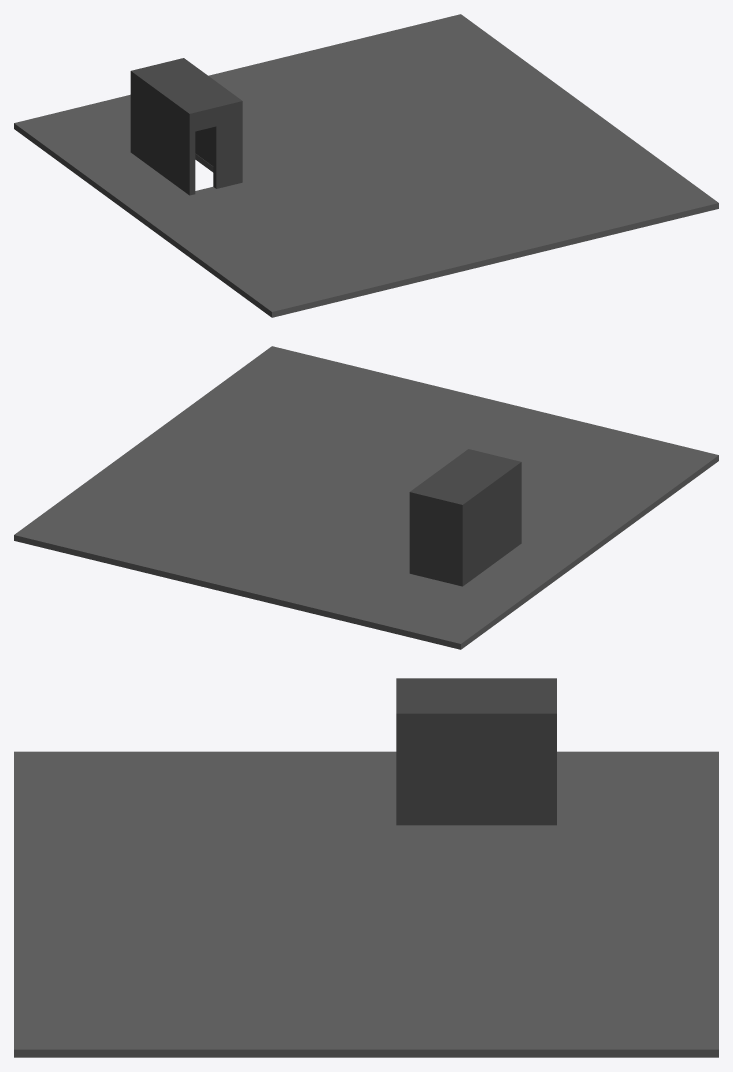
Rendered from StairsRoof.glb.
3 views of the same model, one above another, from view 1: azimuth 30°, elevation 25°; view 2: azimuth 150°, elevation 25°; view 3: azimuth 270°, elevation 25° (orthographic). The views are drawn at different scales.
Visible parts, largest first — view 1: RoofStairs-col; view 2: RoofStairs-col; view 3: RoofStairs-col.
Part boxes in pixels (x1,y1,x2,y2): RoofStairs-col: (14, 14, 718, 317); RoofStairs-col: (14, 346, 718, 649); RoofStairs-col: (14, 678, 718, 1057).
Size of the model in its own units: 64 by 11.97 by 64.
2 materials, 2 textured.
